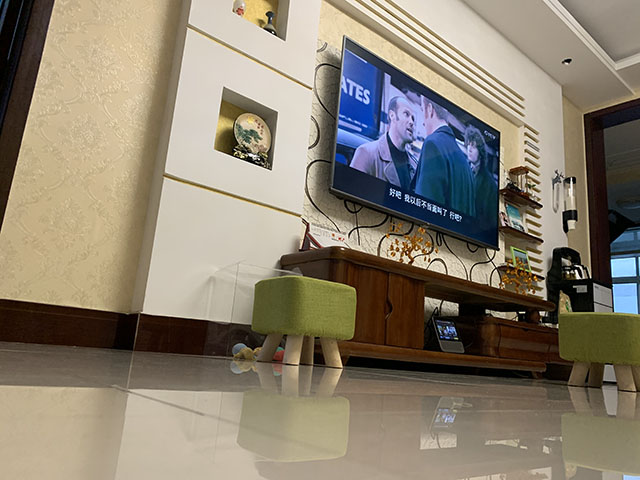cabinet: (278, 245, 574, 380)
stool: (250, 274, 358, 370), (556, 310, 640, 392)
